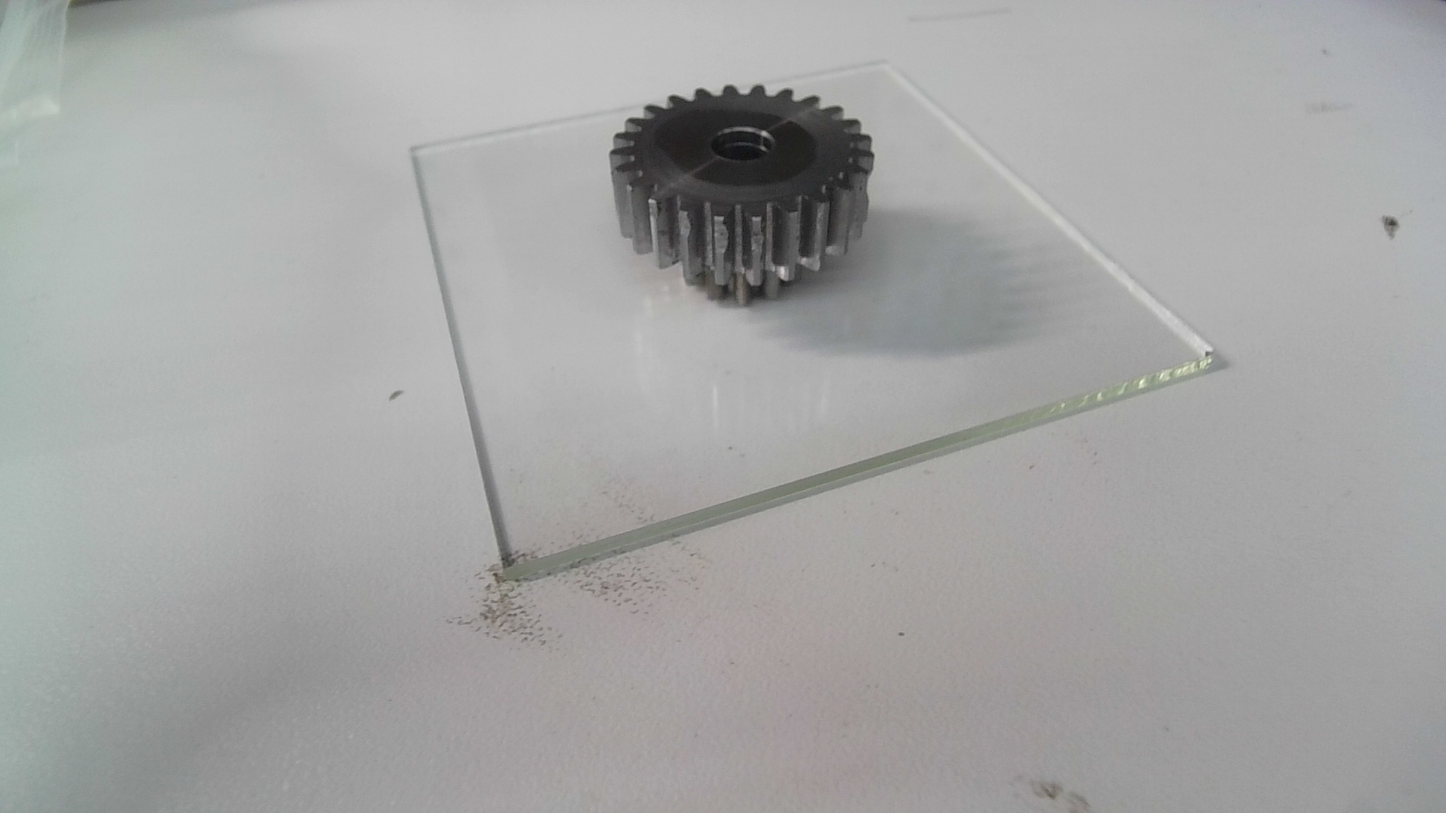gear: (603, 78, 878, 308)
